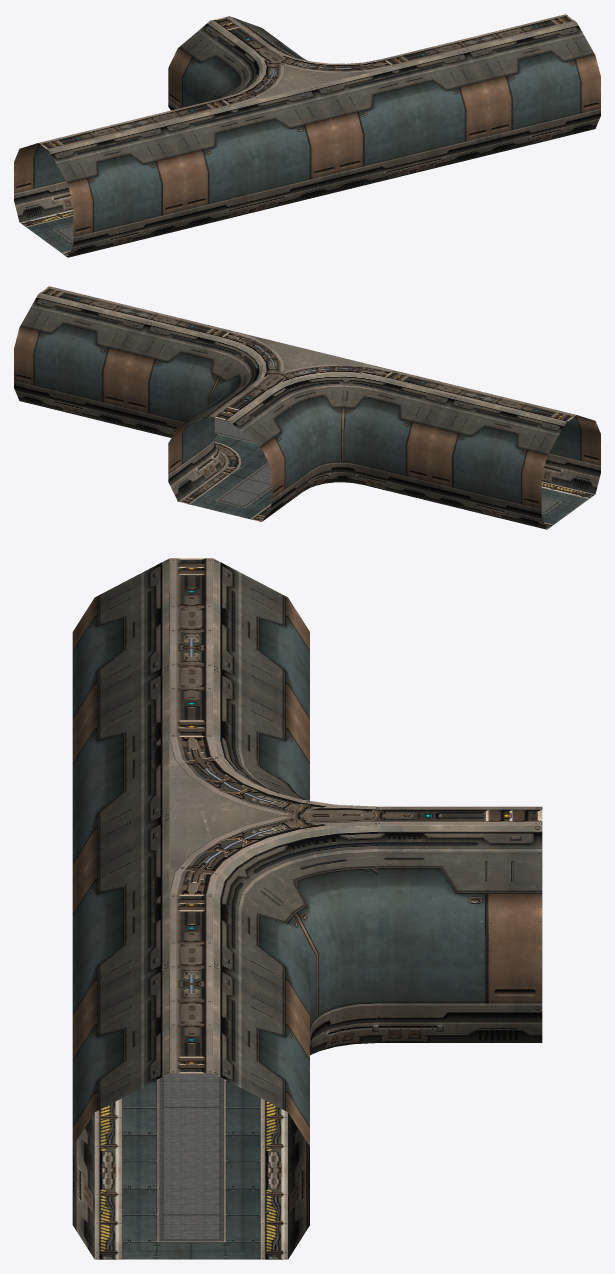
File: mprw_bend_hall_T.FBX
3 views of the same model, one above another, from view 1: azimuth 30°, elevation 25°; view 2: azimuth 150°, elevation 25°; view 3: azimuth 270°, elevation 25° (orthographic). The views are drawn at different scales.
Parts seen in each view (by area): view 1: mprw_bend_hall_T; view 2: mprw_bend_hall_T; view 3: mprw_bend_hall_T.
Part boxes in pixels (left/top/right/bottom): mprw_bend_hall_T: left=14, top=14, right=600, bottom=257; mprw_bend_hall_T: left=14, top=286, right=600, bottom=529; mprw_bend_hall_T: left=72, top=558, right=542, bottom=1259.
Size of the model in its own units: 3300 by 557 by 1271.
Materials: 2 (2 with a texture image).
